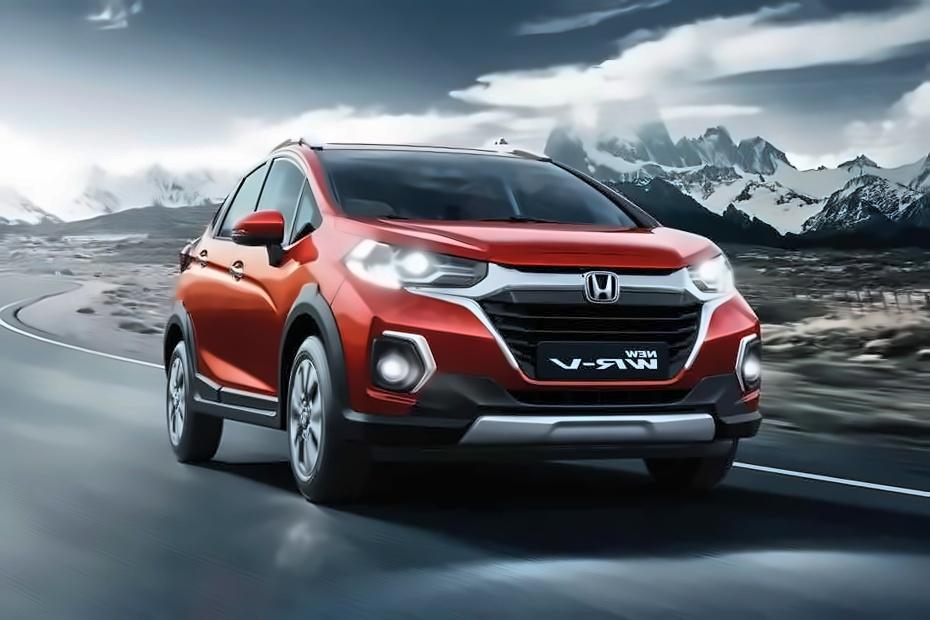Car hood: (334, 213, 727, 274)
Driver-s door - -F-R-: (212, 132, 324, 436)
Fender - -F-R-: (268, 189, 373, 393)
Front bumper: (314, 275, 760, 455)
Headlight - -L-: (687, 251, 741, 301)
Headlight - -R-: (341, 238, 491, 292)
Passenger-s door - -R-R-: (178, 145, 279, 442)
Side bumper - -R-: (186, 369, 291, 437)
Side mirror - -R-: (231, 209, 295, 264)
